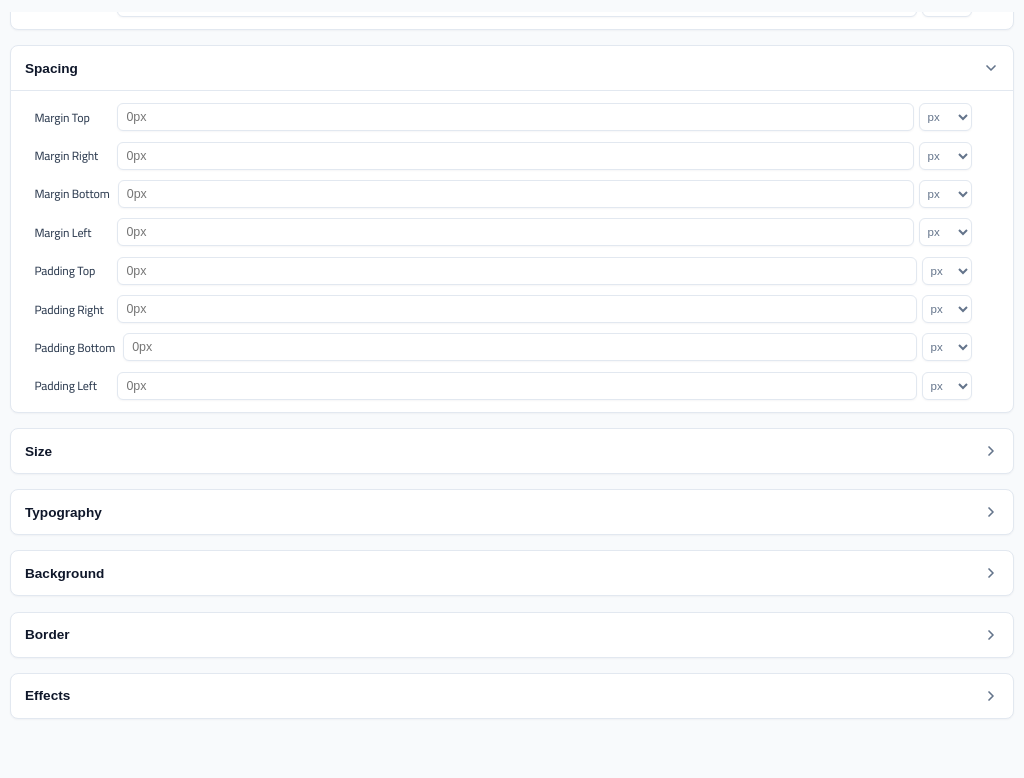
Test: StyleSectors Component Reactivity & Controls › displays selected color in side panel when color picker changes and when text changes
(page scrolled)
Open typography sector
Click the button with test id "sector-header-typography" at (63, 512), box [11,490,1013,534]
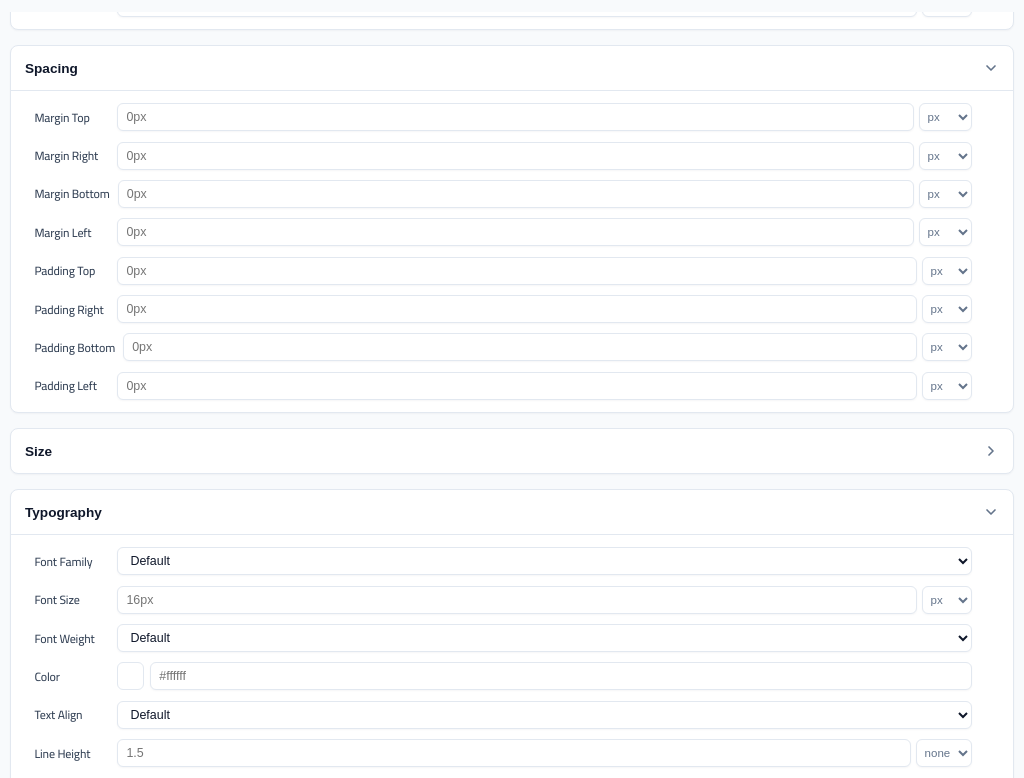
Pick color from picker
Type "#ff5500" into the colour field with test id "style-color-picker-color" at (131, 676), box [117,662,144,690]
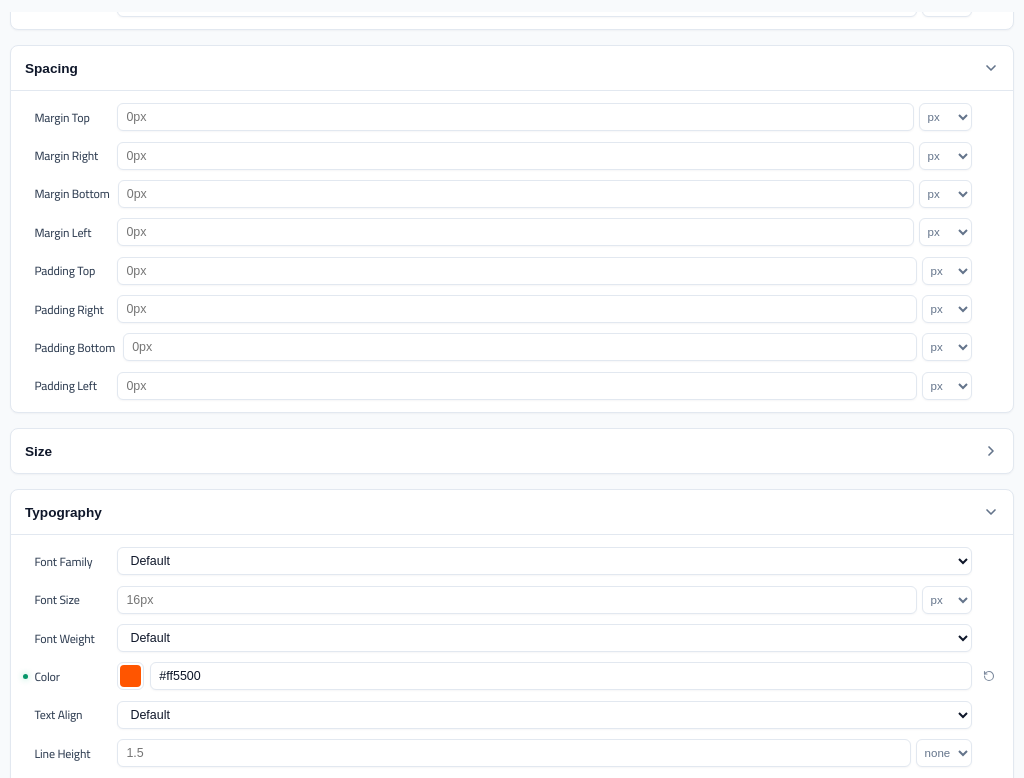
expect the field with test id "style-input-color" holds "#ff5500": met
Type new color in text input
Replace the text in the field with test id "style-input-color" with "#2563eb" at (561, 676), box [150,662,972,690]
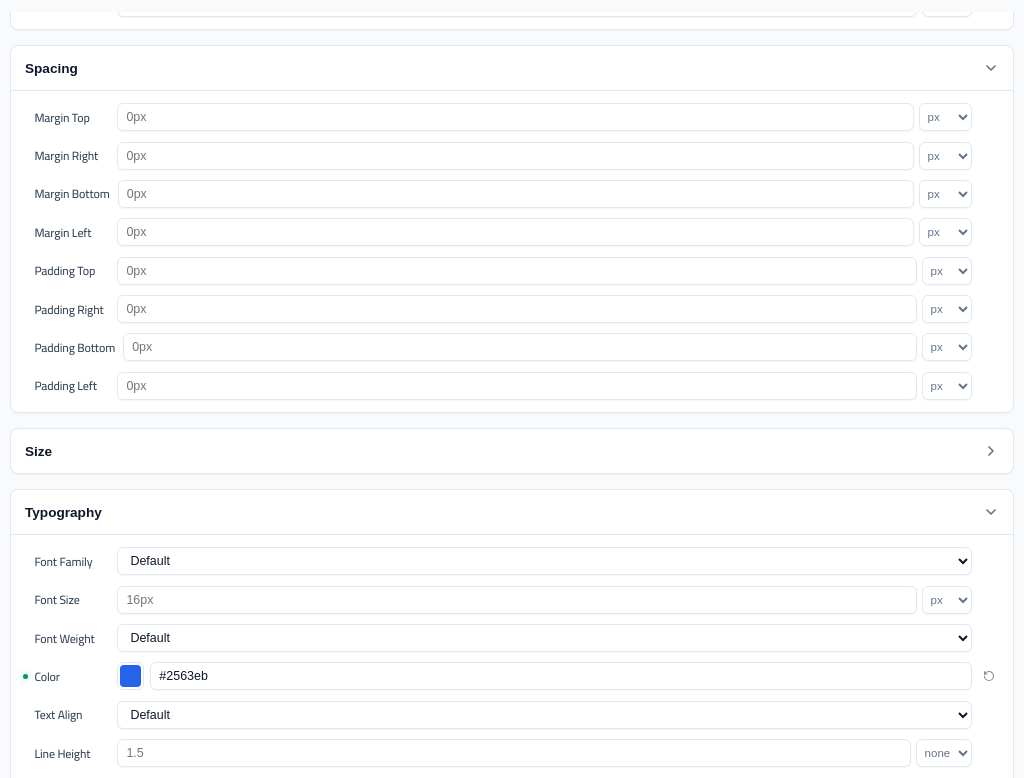
expect the colour field with test id "style-color-picker-color" holds "#2563eb": met, box [117,662,144,690]
